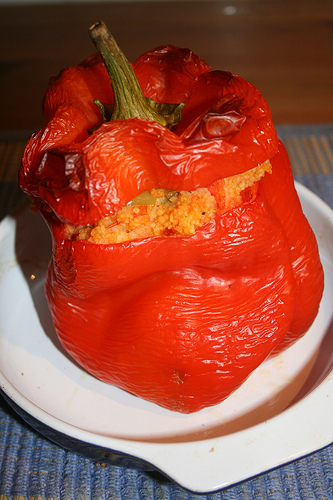capsicum: (16, 17, 322, 411)
